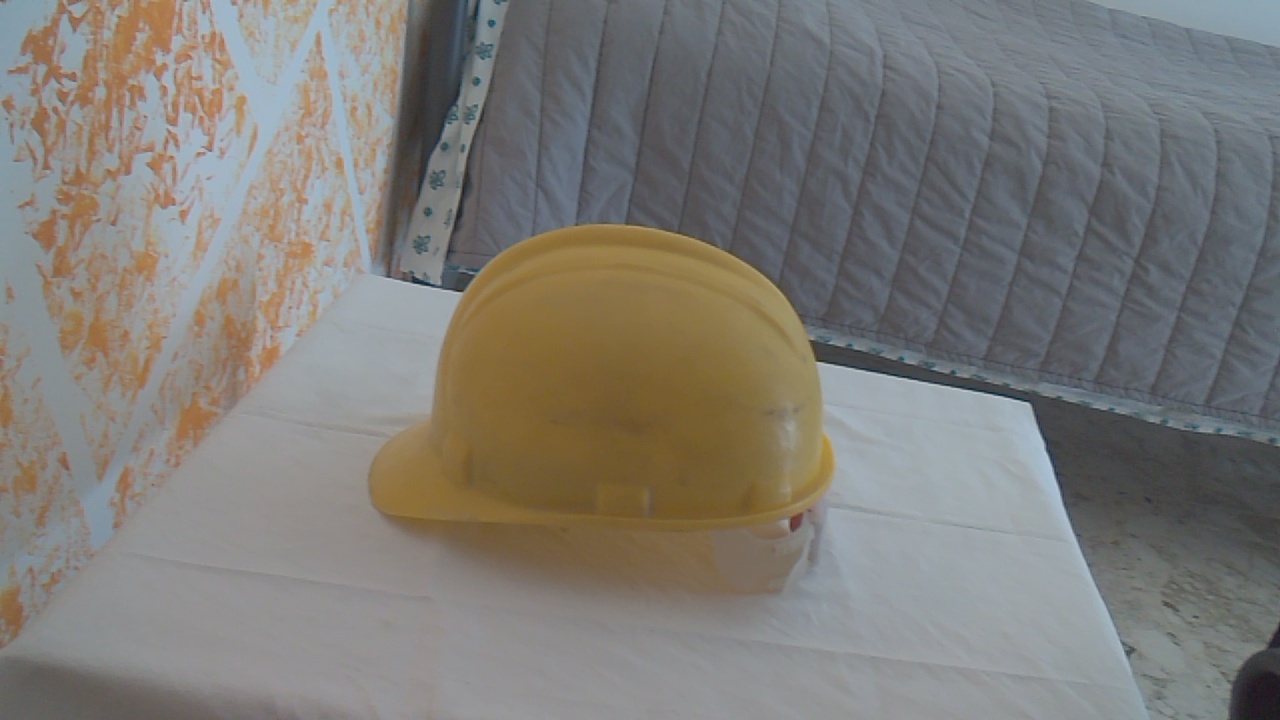Helmet: (372, 218, 841, 597)
